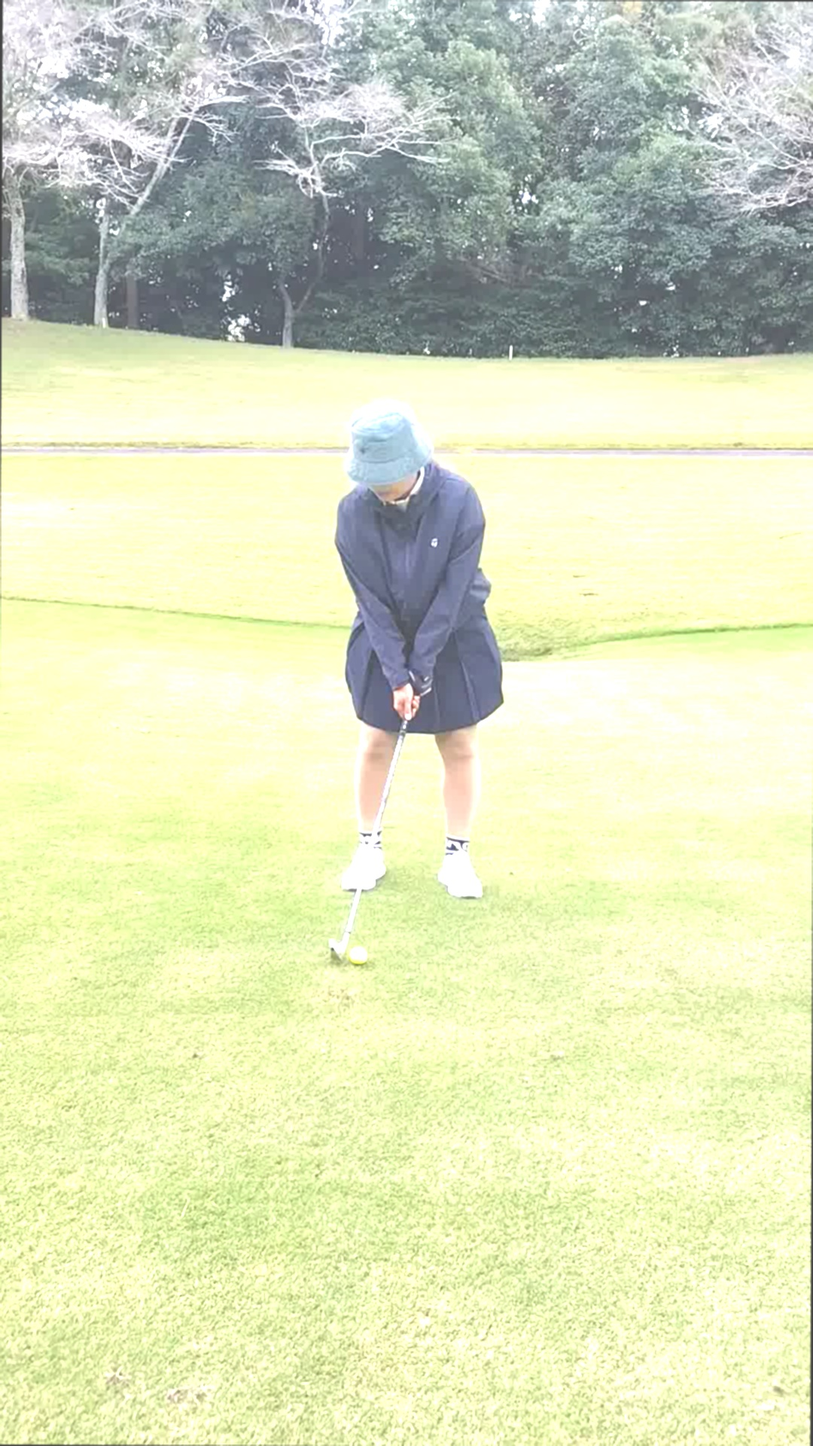clubhead: (278, 901, 409, 1003)
